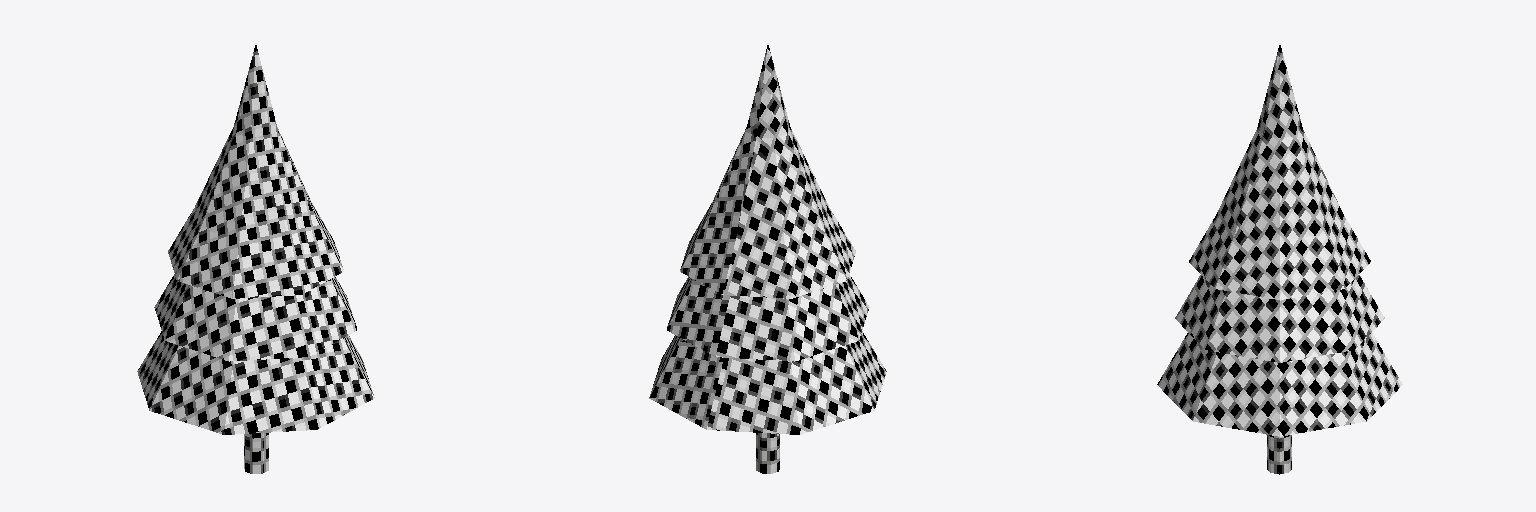
3 views of the same model, side by side, from view 1: azimuth 30°, elevation 25°; view 2: azimuth 150°, elevation 25°; view 3: azimuth 270°, elevation 25° (orthographic).
Visible parts, largest first — view 1: Arbol_02; view 2: Arbol_02; view 3: Arbol_02.
Boxes of the visible parts, box(x1,y1,x2,y2) form: Arbol_02: box(137, 45, 374, 473); Arbol_02: box(649, 45, 886, 473); Arbol_02: box(1157, 45, 1402, 474).
Size of the model in its own units: 20.12 by 38.46 by 20.12.
Materials: 1 (1 with a texture image).